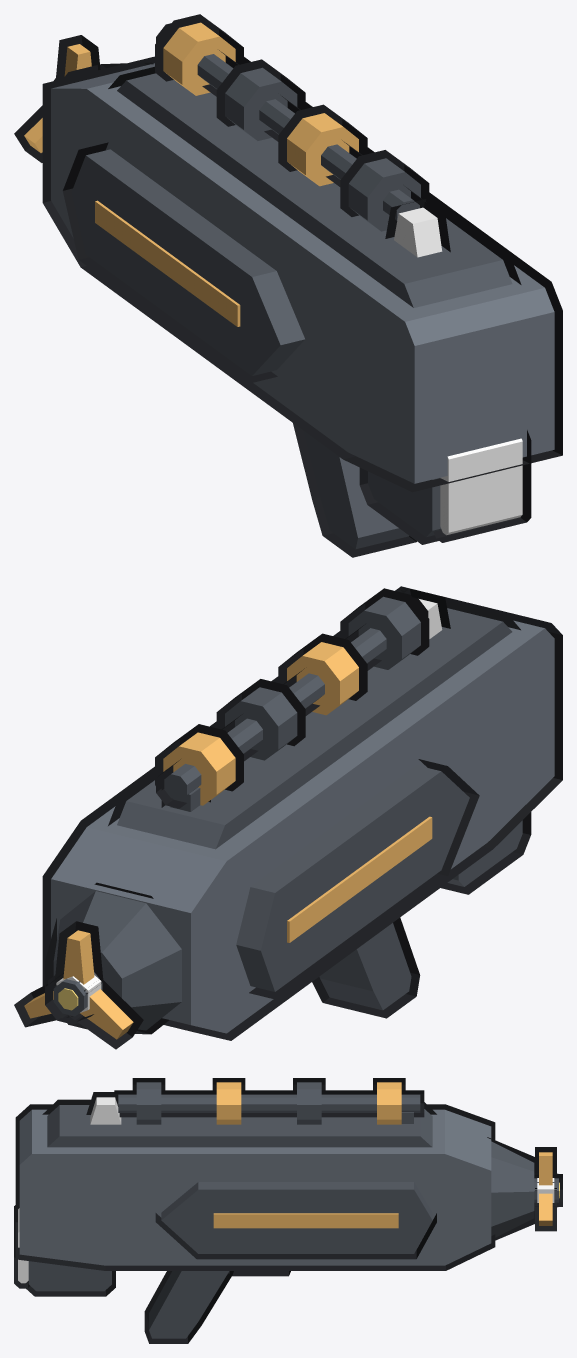
The model's file is LASER.gltf.
The picture shows the model from 3 angles, top to bottom: view 1: azimuth 30°, elevation 25°; view 2: azimuth 150°, elevation 25°; view 3: azimuth 270°, elevation 25°; orthographic projection. The views are drawn at different scales.
Visible parts, largest first — view 1: LASER, anim_spin; view 2: LASER, anim_spin; view 3: LASER, anim_spin.
Boxes of the visible parts, <box> form: LASER: <box>42,14,562,557</box>; anim_spin: <box>14,35,100,162</box>; LASER: <box>42,586,562,1040</box>; anim_spin: <box>14,921,143,1049</box>; LASER: <box>14,1078,562,1343</box>; anim_spin: <box>534,1147,558,1231</box>.
Bounding box in the file's own units: 0.0972 × 0.1801 × 0.3562.
